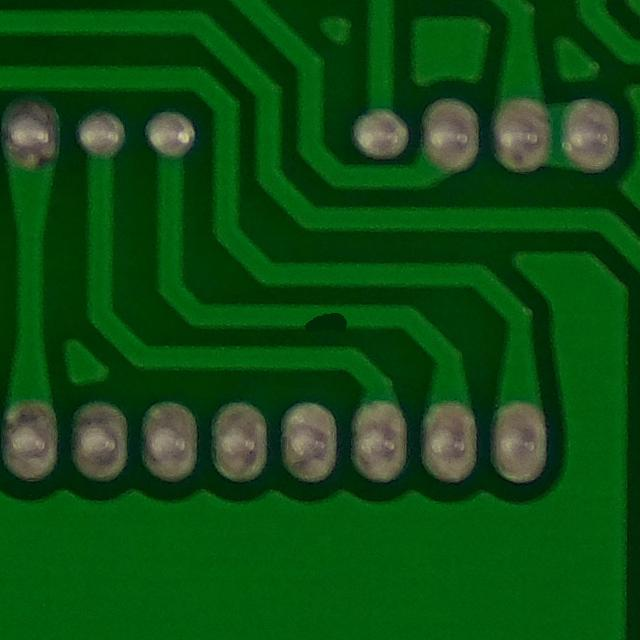mouse_bite: (278, 293, 362, 347)
